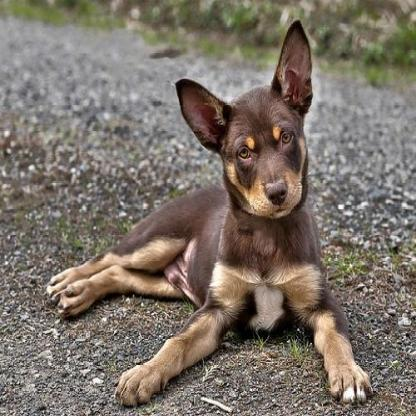kelpie: (43, 18, 375, 408)
